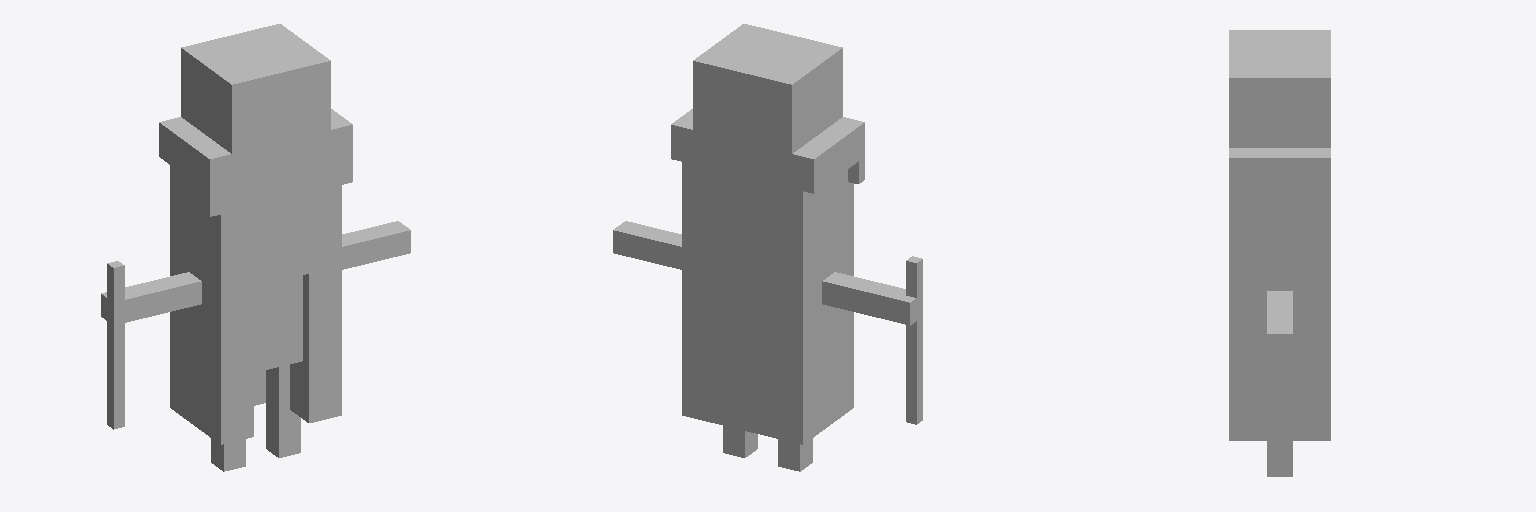
The model's file is willy wonka.obj.
The picture shows the model from 3 angles: view 1: azimuth 30°, elevation 25°; view 2: azimuth 150°, elevation 25°; view 3: azimuth 270°, elevation 25°; orthographic projection.
Parts seen in each view (by area): view 1: object 1; view 2: object 1; view 3: object 1.
Boxes of the visible parts, x1=… form: object 1: x1=101, y1=24, x2=410, y2=471; object 1: x1=613, y1=24, x2=922, y2=471; object 1: x1=1229, y1=30, x2=1330, y2=476.
Bounding box in the file's own units: 2.7 × 3.5 × 0.8.